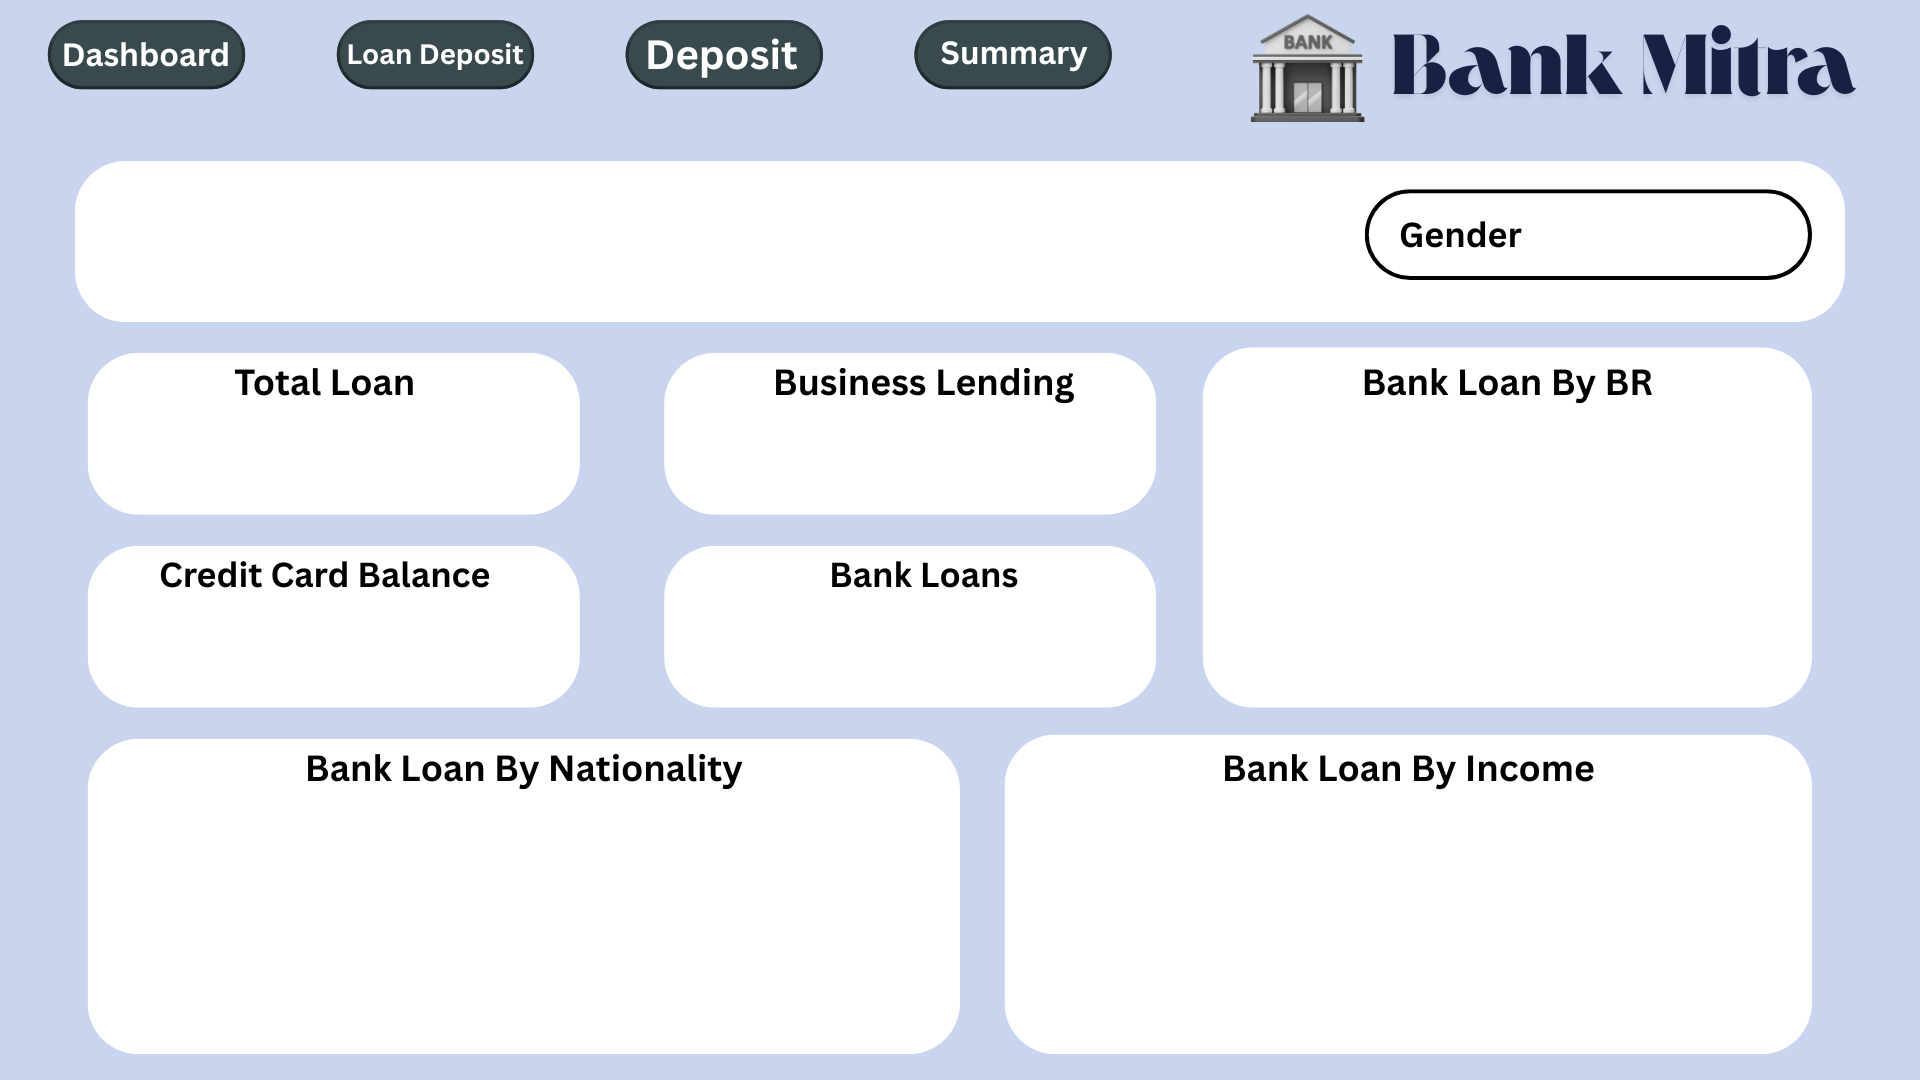

This screenshot's page, from the dashboard's own definition file:
{"tool":"powerbi","page":{"name":"Loan Deposit","canvas":[1280,720],"ordinal":1},"visuals":[{"type":"card","fields":{"Values":["Banking.Total loan"]},"box":[135,279.8,165.6,58.9],"z":0},{"type":"card","fields":{"Values":["Sum(Banking.Business Lending)"]},"box":[527.6,279.8,165.6,58.9],"z":1000},{"type":"card","fields":{"Values":["Sum(Banking.Credit Card Balance)"]},"box":[135,403.7,165.6,58.9],"z":2000},{"type":"card","fields":{"Values":["Sum(Banking.Bank Loans)"]},"box":[527.6,403.7,165.6,58.9],"z":3000},{"type":"slicer","fields":{"Values":["Banking.GenderId"]},"box":[1017.2,132.5,165.6,44.2],"z":4000},{"type":"actionButton","box":[29.4,12.3,135,49.1],"z":5000},{"type":"actionButton","box":[222.1,12.3,135,49.1],"z":6000},{"type":"actionButton","box":[414.7,12.3,135,49.1],"z":7000},{"type":"actionButton","box":[607.4,12.3,135,49.1],"z":8000},{"type":"columnChart","fields":{"Y":["Sum(Banking.Bank Loans)"],"Category":["Banking.Nationality"]},"box":[72.4,525.2,547.2,176.7],"z":9000},{"type":"donutChart","fields":{"Category":["Banking.Income Grade"],"Y":["Sum(Banking.Bank Loans)"]},"box":[684.7,535,514.1,150.9],"z":10000},{"type":"clusteredColumnChart","fields":{"Y":["Sum(Banking.Bank Loans)"],"Category":["Banking.BRId"]},"box":[804.9,279.8,401.2,182.8],"z":11000},{"type":"slicer","fields":{"Values":["Banking.BRId"]},"box":[69.9,114.1,836.8,93.3],"z":12000}]}

Visuals, with their boxes in screenshot pixels (x1, y1, x2, y2), scaled from the page's 1280x720 canvas onto the 1920x1080 screenshot:
card - Banking.Total loan: bbox(202, 420, 451, 508)
card - Sum(Banking.Business Lending): bbox(791, 420, 1040, 508)
card - Sum(Banking.Credit Card Balance): bbox(202, 606, 451, 694)
card - Sum(Banking.Bank Loans): bbox(791, 606, 1040, 694)
slicer - Banking.GenderId: bbox(1526, 199, 1774, 265)
actionButton: bbox(44, 18, 247, 92)
actionButton: bbox(333, 18, 536, 92)
actionButton: bbox(622, 18, 825, 92)
actionButton: bbox(911, 18, 1114, 92)
columnChart - Sum(Banking.Bank Loans) x Banking.Nationality: bbox(109, 788, 929, 1053)
donutChart - Banking.Income Grade x Sum(Banking.Bank Loans): bbox(1027, 802, 1798, 1029)
clusteredColumnChart - Sum(Banking.Bank Loans) x Banking.BRId: bbox(1207, 420, 1809, 694)
slicer - Banking.BRId: bbox(105, 171, 1360, 311)
